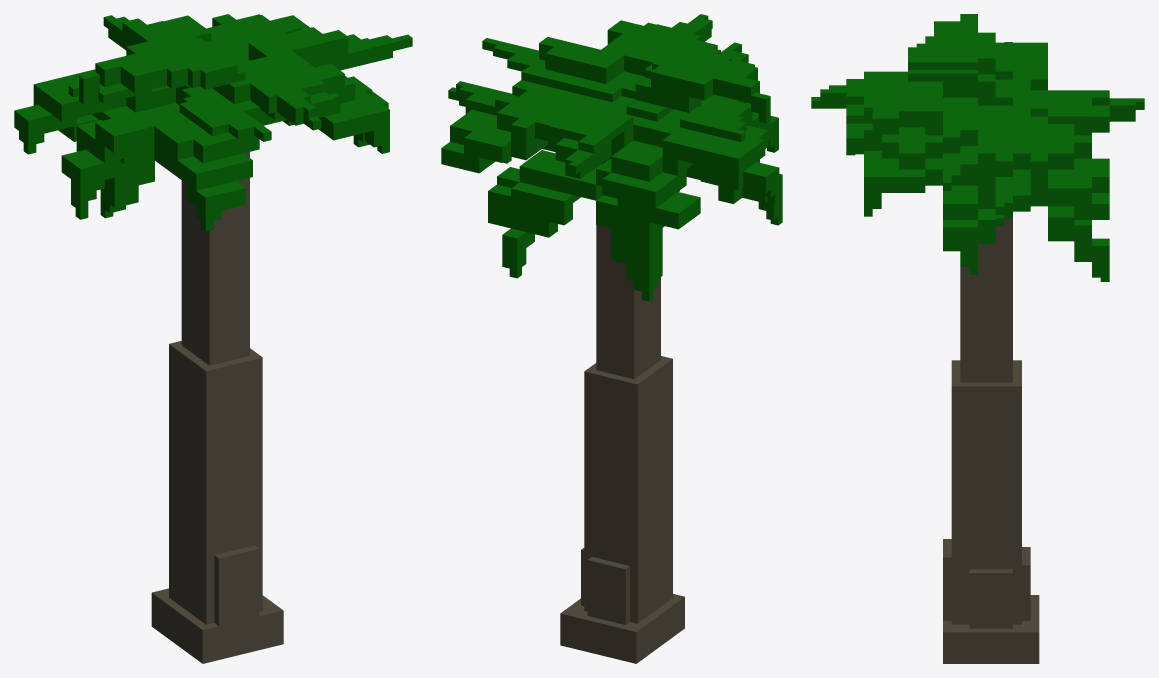
Rendered from Palm.glb.
3 renders of one model, left to right at view 1: azimuth 30°, elevation 25°; view 2: azimuth 150°, elevation 25°; view 3: azimuth 270°, elevation 25°, orthographic. The views are drawn at different scales.
Parts seen in each view (by area): view 1: Palm; view 2: Palm; view 3: Palm.
Part boxes in pixels (box(x1,y1,x2,y2)): Palm: box(14, 14, 412, 663); Palm: box(441, 14, 782, 663); Palm: box(811, 14, 1144, 663).
Size of the model in its own units: 2.2 by 3.6 by 1.9.
1 material, 1 textured.
